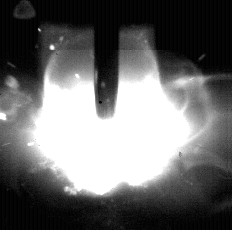arame: (94, 0, 119, 120)
poca: (30, 0, 196, 230)
